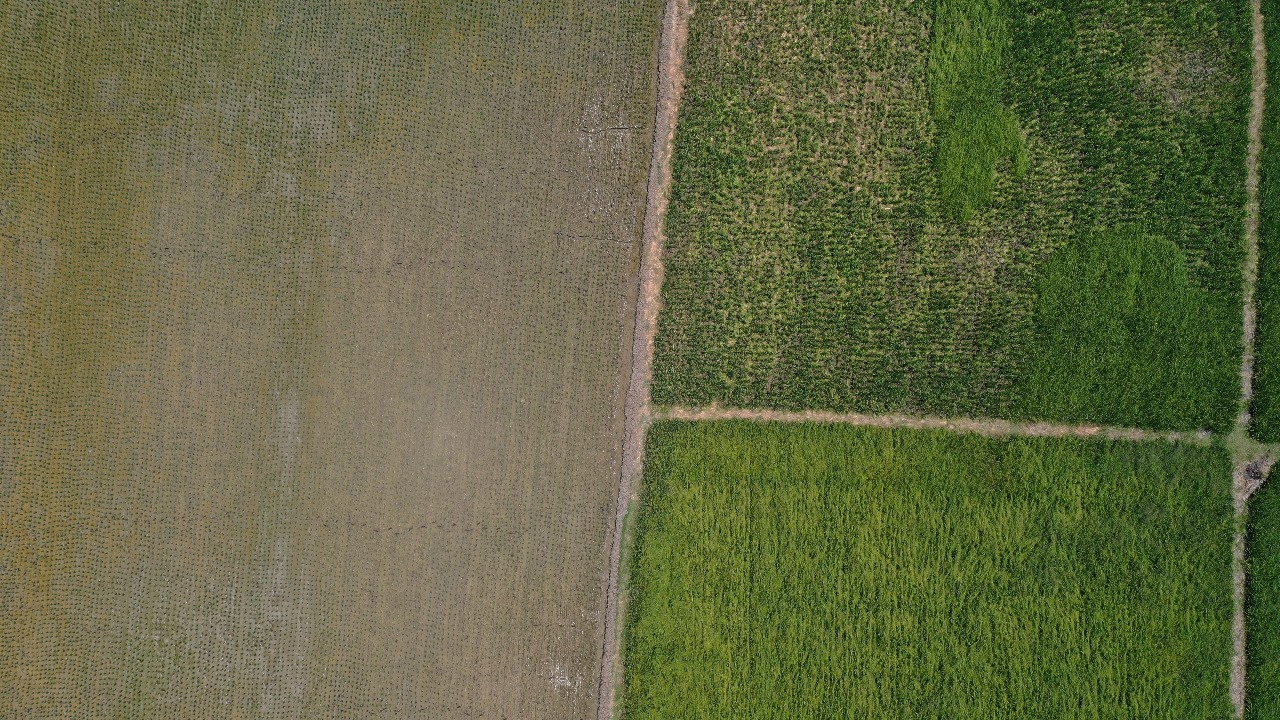irigration: (603, 388, 1239, 457), (1223, 1, 1280, 720), (618, 1, 688, 402), (594, 423, 650, 720)
